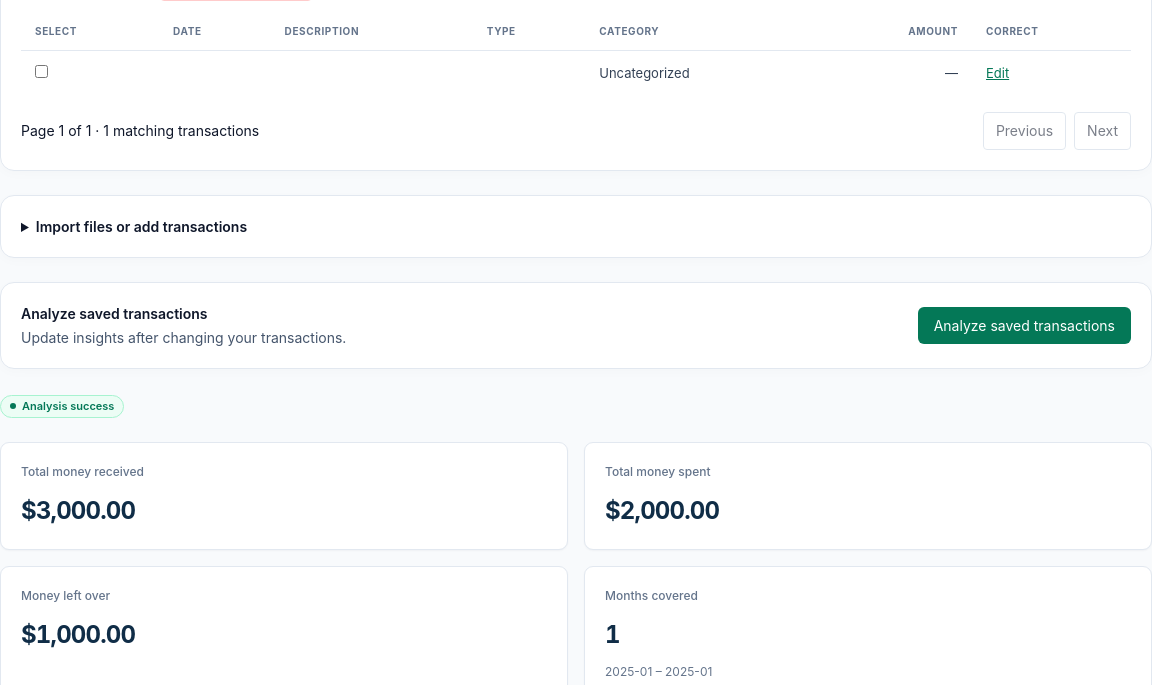
Test: Expense Analysis page › reruns saved transactions and displays AI spending insights
The width and height of the screenshot is (1152, 685).
(page scrolled)
Click the button "Analyze saved transactions": click(1024, 326) 918,307 -> 1131,344
(page scrolled)
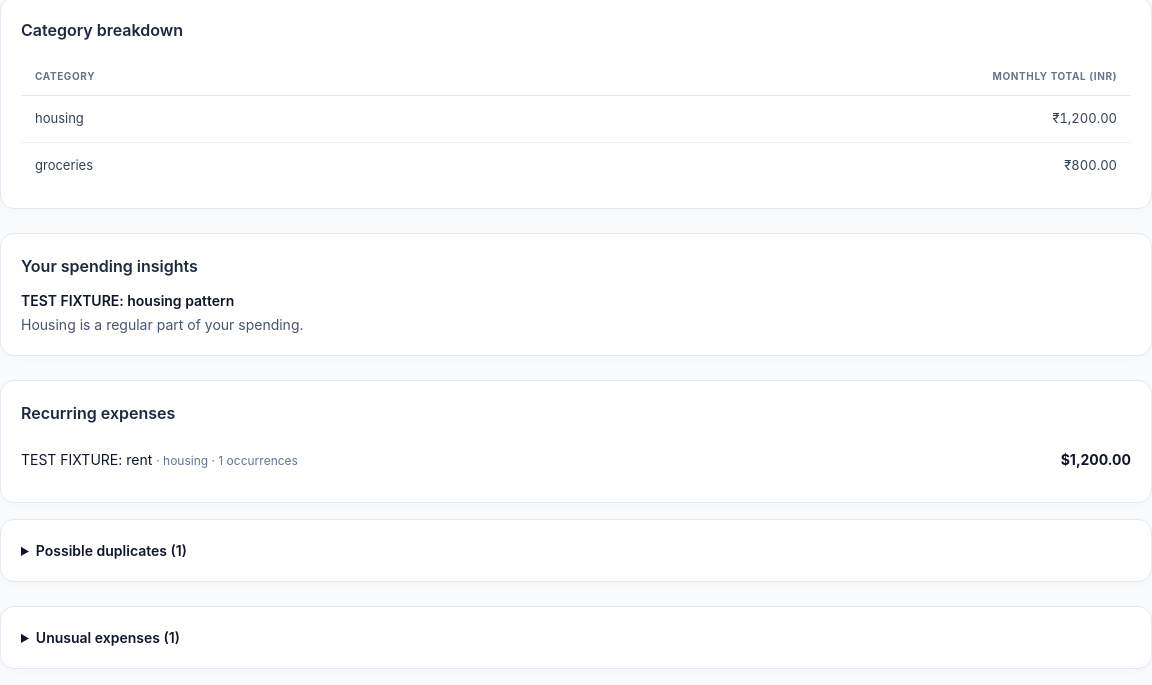
Result: the text "Housing is a regular part of your spending." is shown at 21,316 -> 304,333
